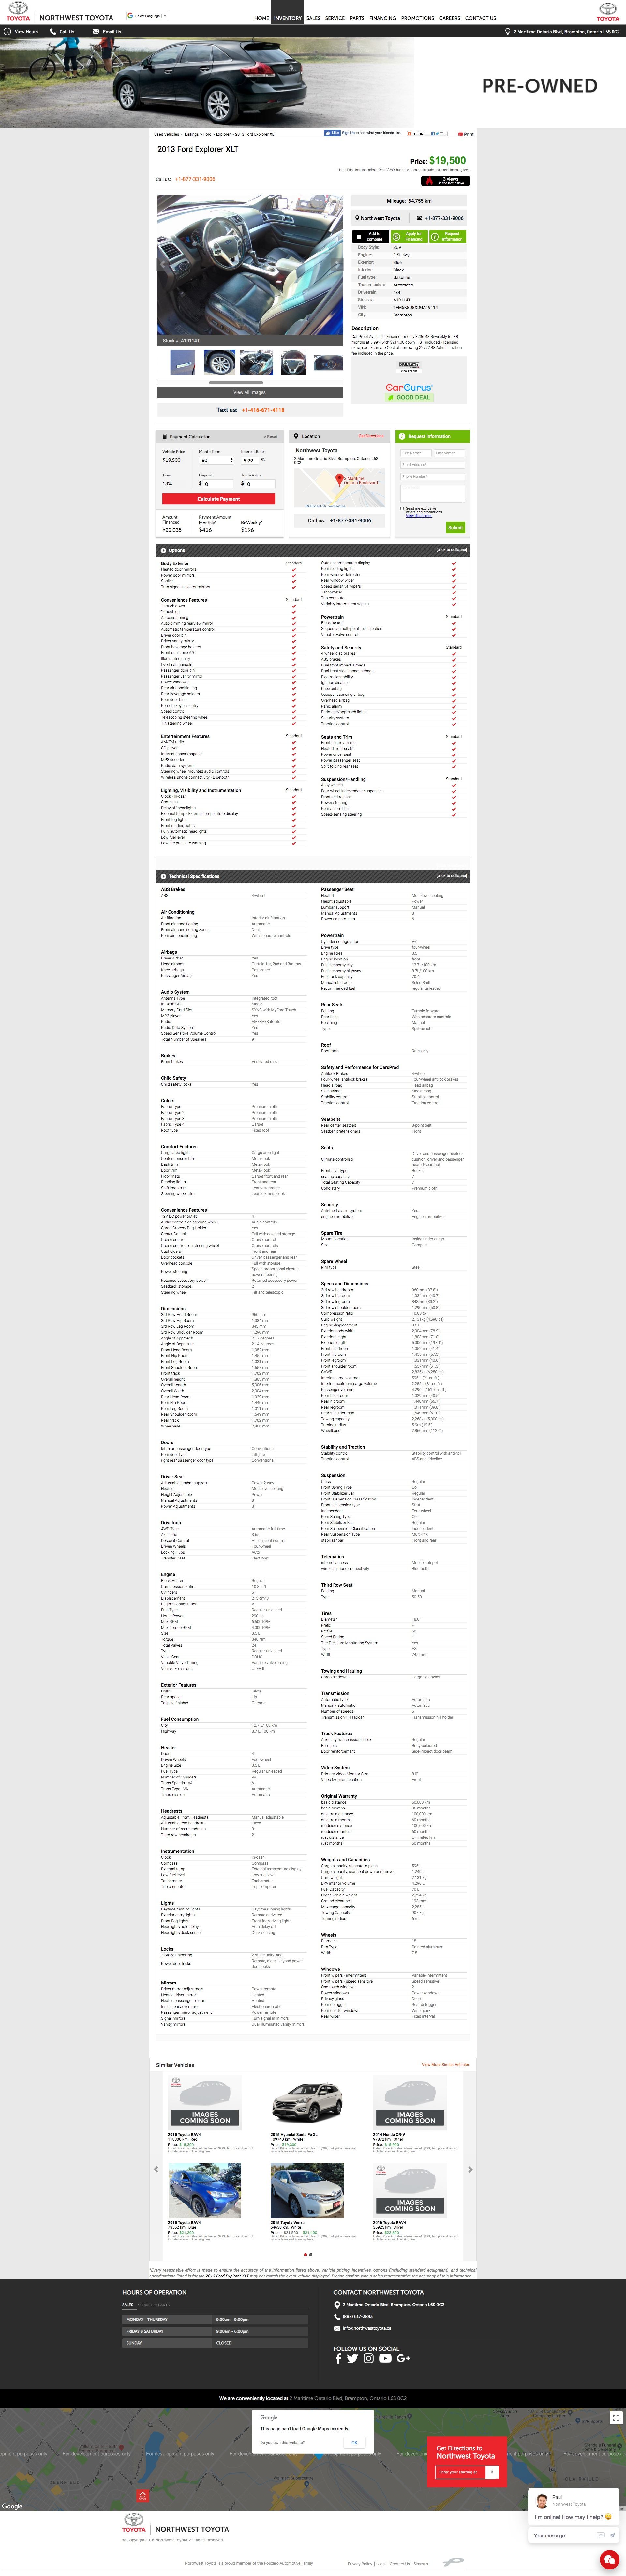car: (335, 261, 342, 269)
